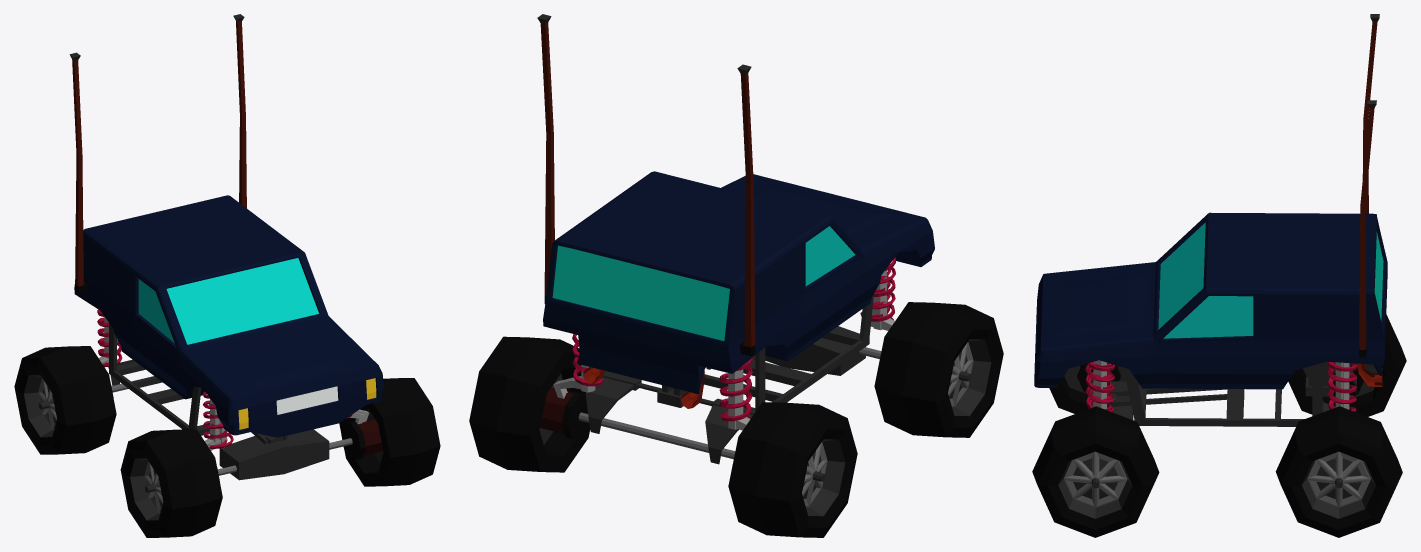
Rendered from remoteControlledCar.fbx.
3 renders of one model, left to right at view 1: azimuth 30°, elevation 25°; view 2: azimuth 150°, elevation 25°; view 3: azimuth 270°, elevation 25°, orthographic. The views are drawn at different scales.
Parts seen in each view (by area): view 1: Cylinder.032; view 2: Cylinder.032; view 3: Cylinder.032.
Part boxes in pixels (x1=…): Cylinder.032: x1=14, y1=14, x2=440, y2=537; Cylinder.032: x1=469, y1=14, x2=1003, y2=537; Cylinder.032: x1=1032, y1=14, x2=1406, y2=537.
Bounding box in the file's own units: 0.4614 × 0.5046 × 0.617.
Materials: 1 (1 with a texture image).
